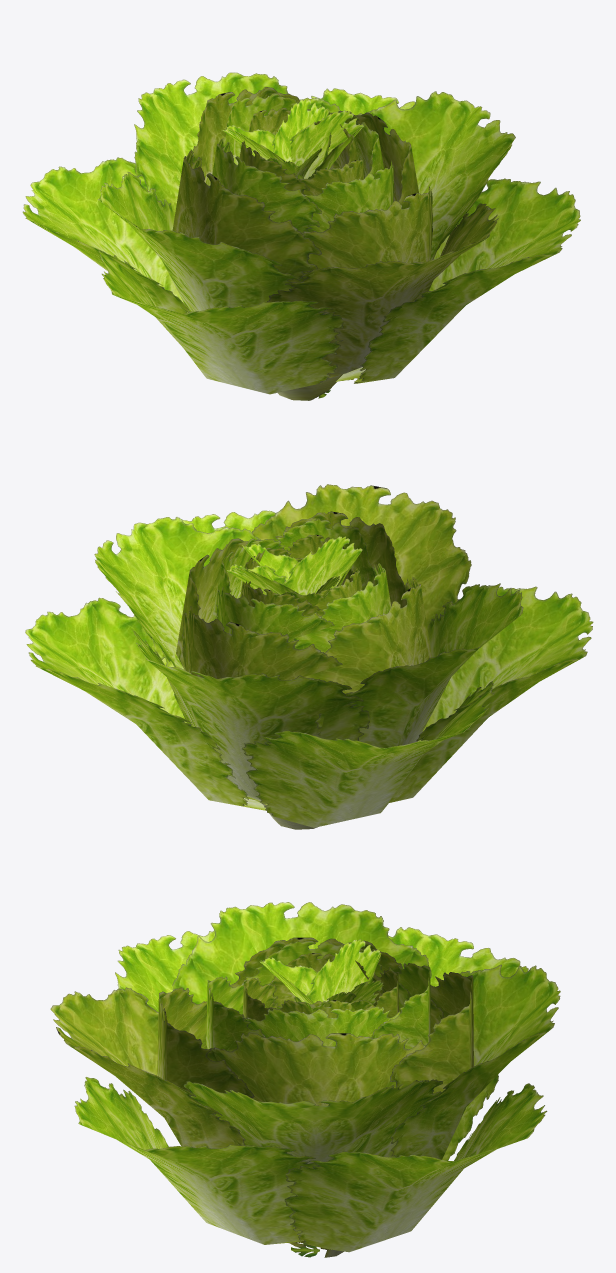
File: AlfaceA.fbx
3 renders of one model, top to bottom at view 1: azimuth 30°, elevation 25°; view 2: azimuth 150°, elevation 25°; view 3: azimuth 270°, elevation 25°, orthographic. The views are drawn at different scales.
Parts seen in each view (by area): view 1: AlfaceALOD0; view 2: AlfaceALOD0; view 3: AlfaceALOD0.
Part boxes in pixels (x1=…): AlfaceALOD0: x1=22, y1=72, x2=580, y2=400; AlfaceALOD0: x1=25, y1=484, x2=593, y2=829; AlfaceALOD0: x1=50, y1=902, x2=560, y2=1257.
Size of what is drawn, in the model's own units: 182 by 92.48 by 168.
1 material, 1 textured.
